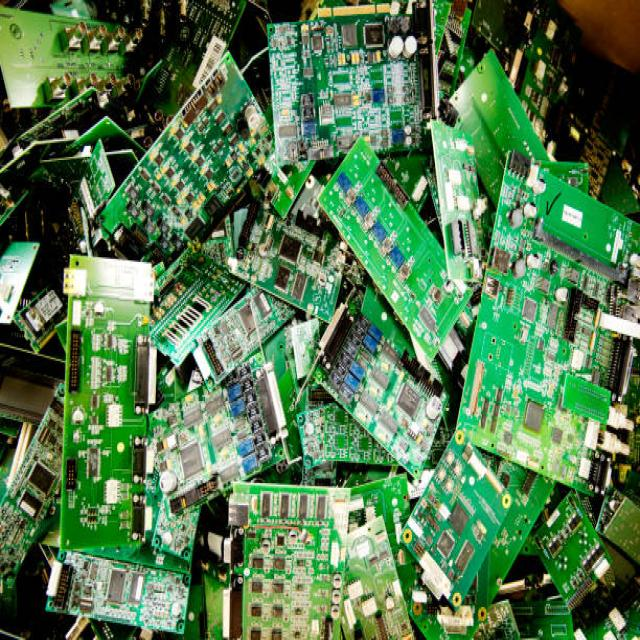metal: (4, 19, 633, 590)
